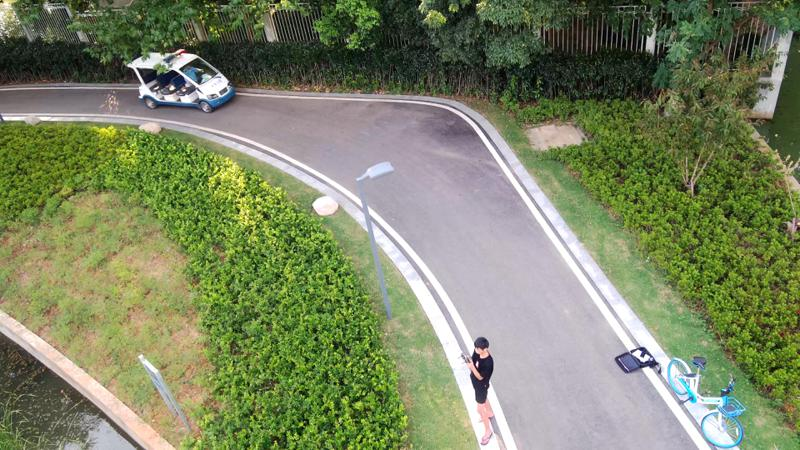passerby: (462, 336, 495, 446)
